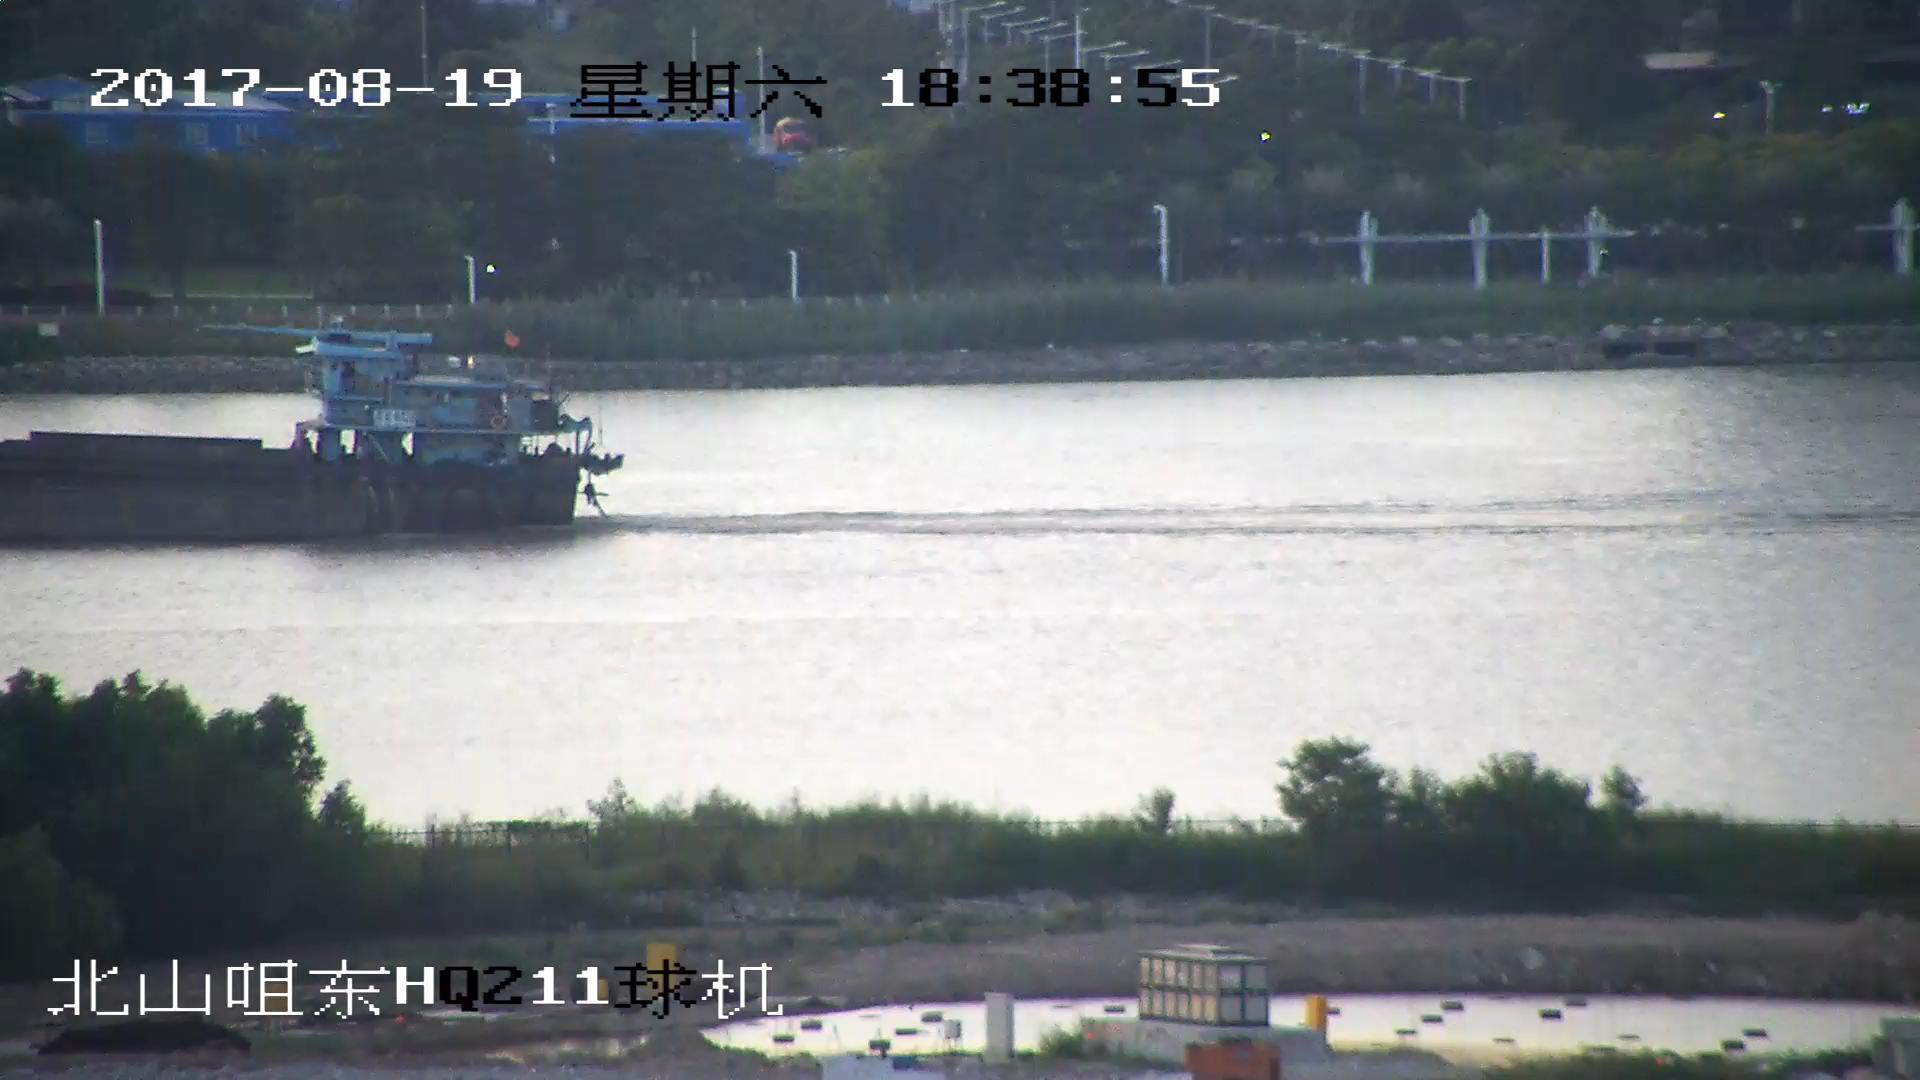Ship: (3, 316, 618, 541)
